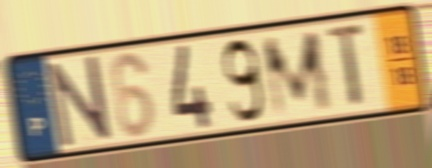4: (170, 42, 215, 133)
6: (107, 48, 161, 141)
9: (219, 36, 266, 126)
M: (259, 26, 336, 121)
N: (45, 52, 115, 151)
T: (326, 19, 368, 113)
